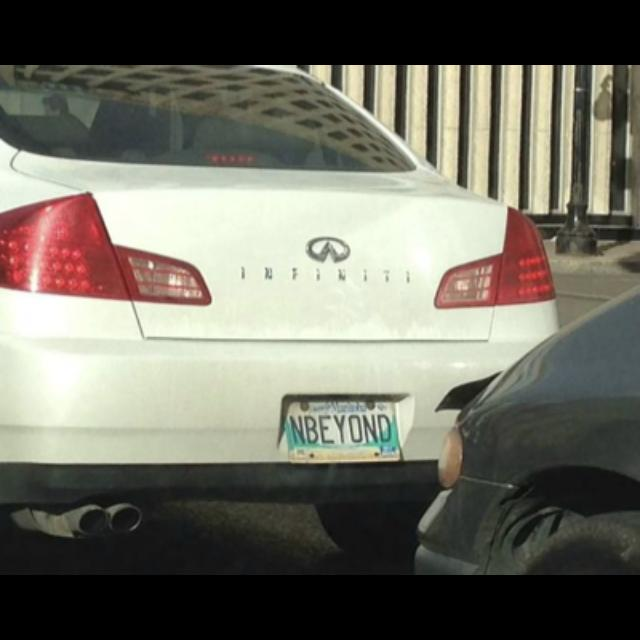carPlate: (283, 399, 402, 461)
